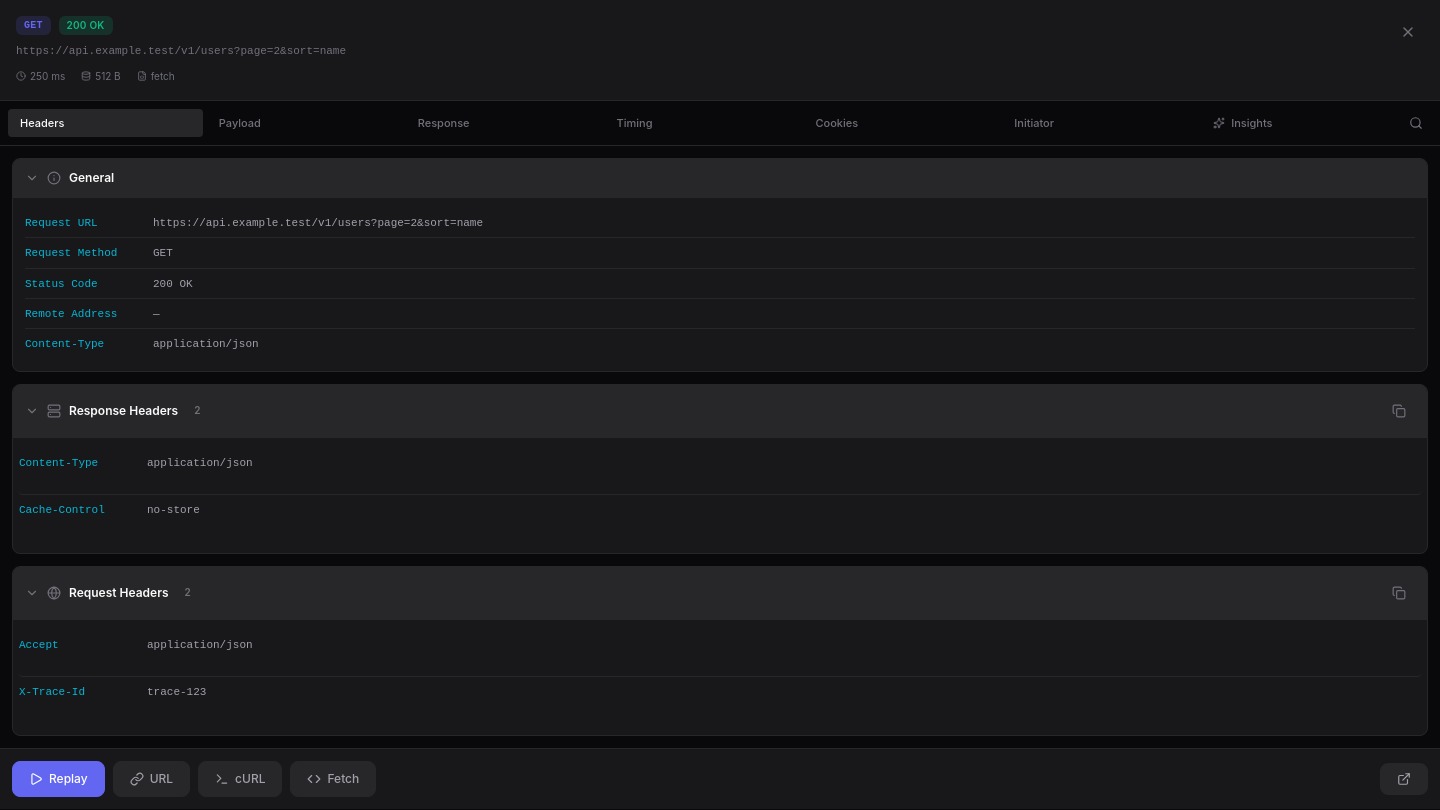
Test: NetworkRequestDetails (HTTP) › collapses sections and keeps the state across tab switches
The width and height of the screenshot is (1440, 810).
What coordinates should you click on to do the following:
click the text "Request Headers"
I would click on:
 (119, 593)
Its box is x1=69 y1=584 x2=168 y2=602.
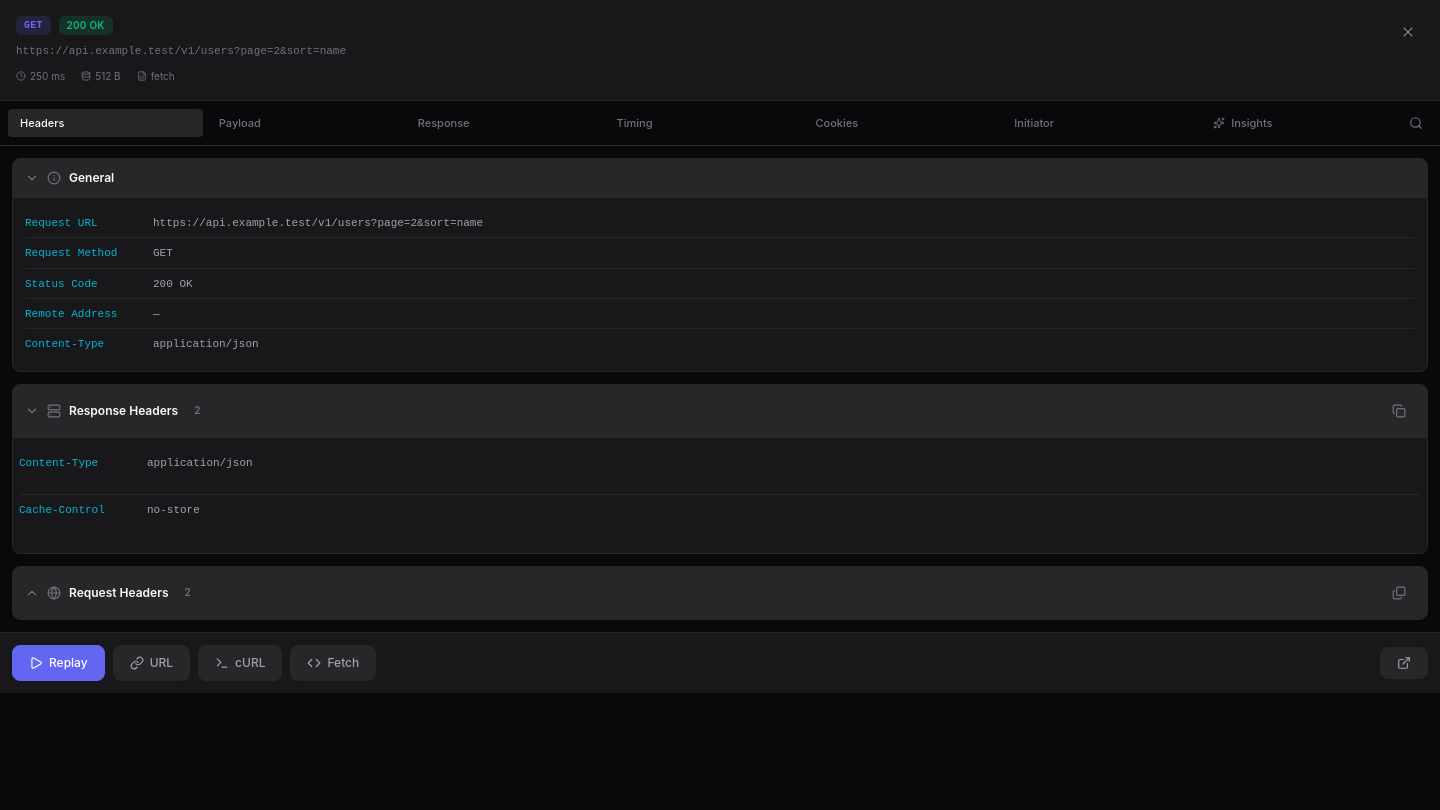
Expected: the number of elements with class "collapsed" is 1, x1=12 y1=566 x2=1428 y2=620
What coordinates should you click on to do the following:
click the button "Timing"
I would click on:
 (702, 123)
Its box is x1=605 y1=109 x2=800 y2=137.
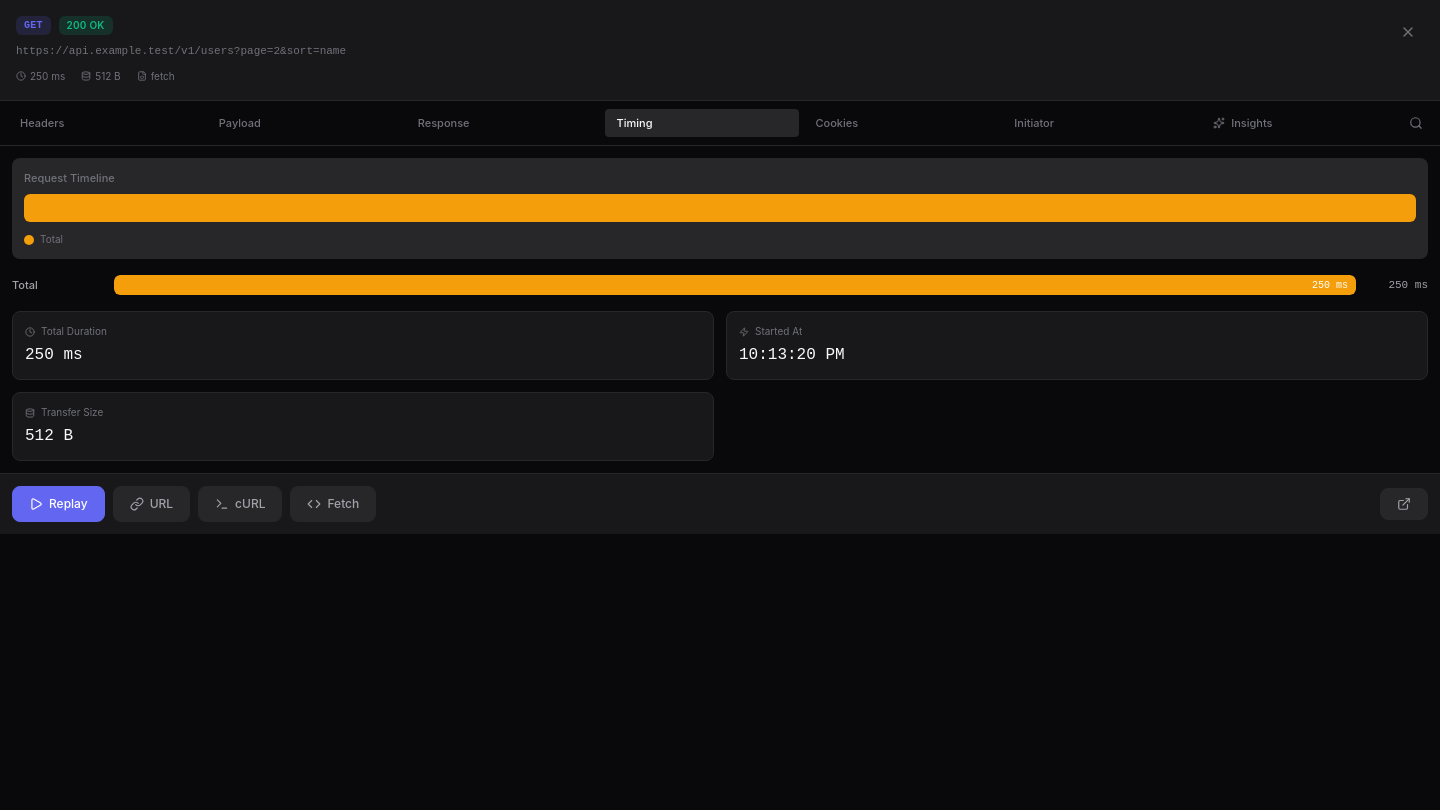
What coordinates should you click on to do the following:
click the button "Headers"
I would click on:
 (105, 123)
Its box is x1=8 y1=109 x2=203 y2=137.
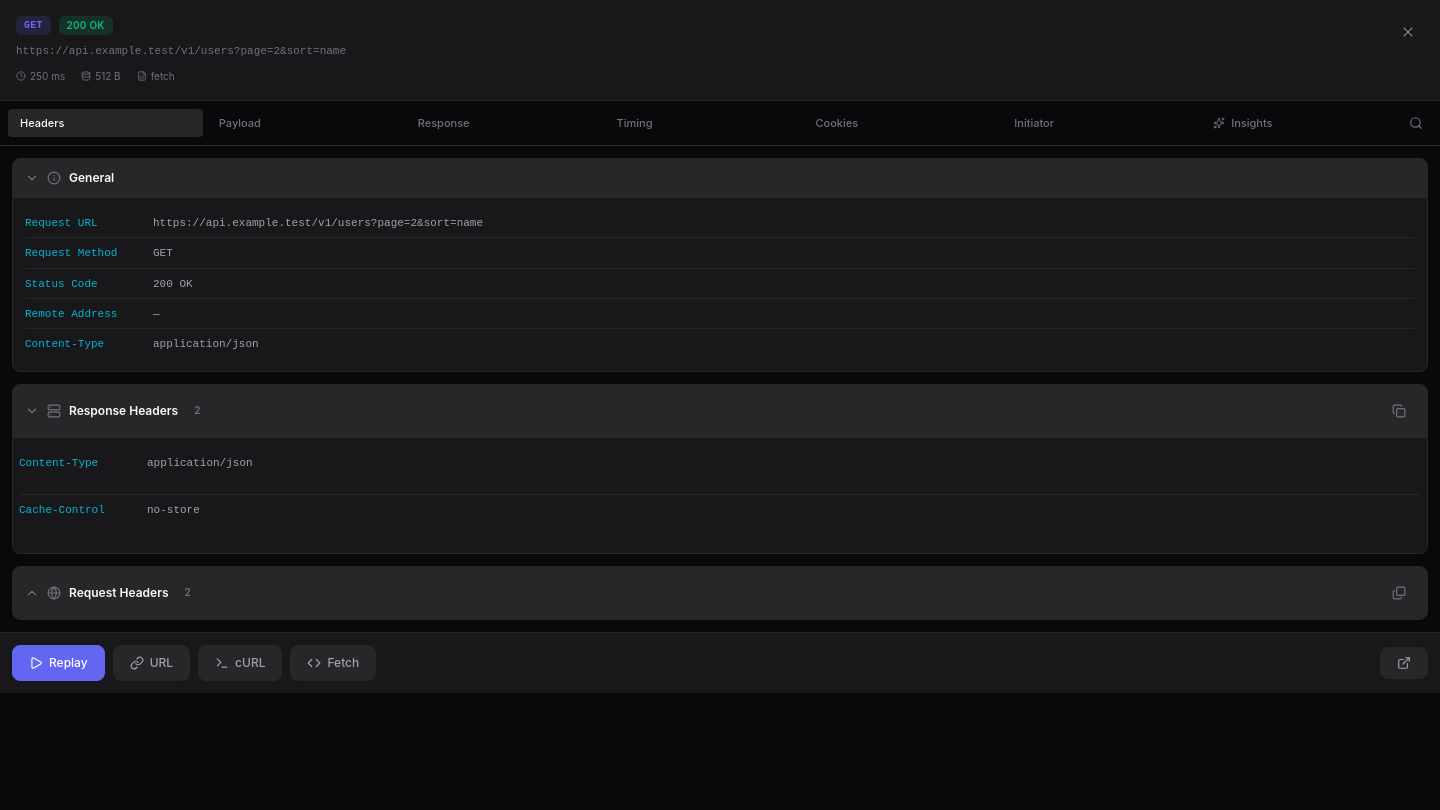
Now the number of elements with class "collapsed" is 1, box x1=12 y1=566 x2=1428 y2=620
